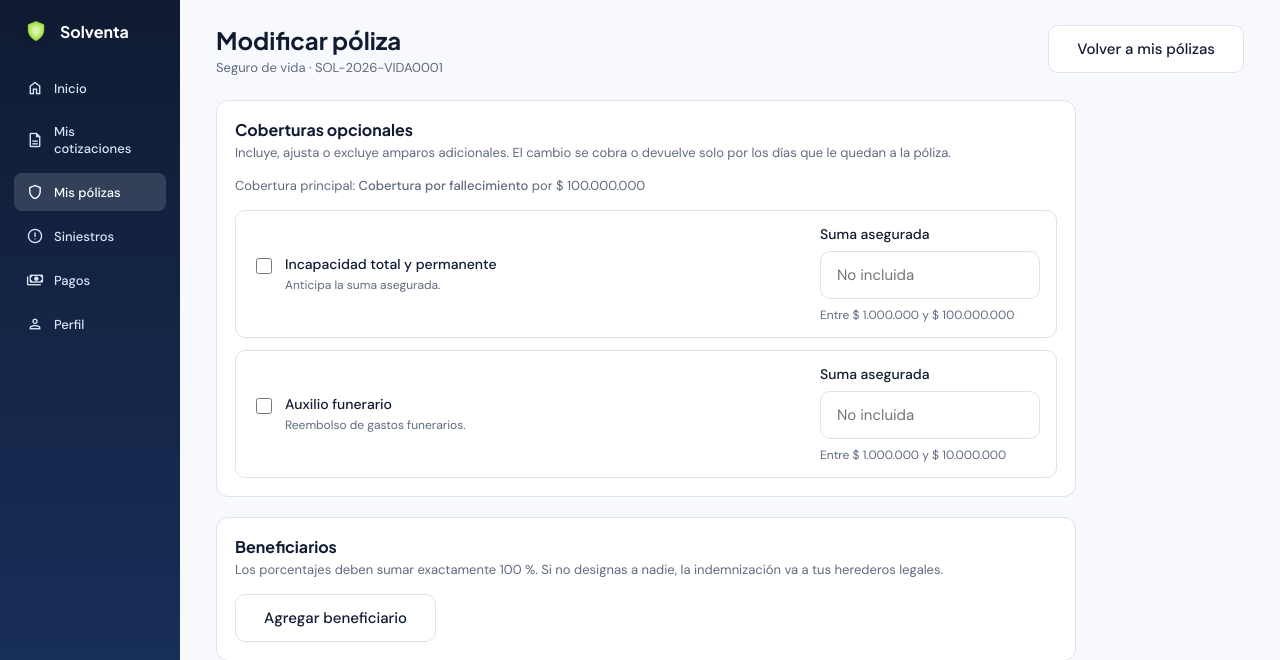
Test: muestra la suma con separador de miles y exige escribirla al incluir la cobertura
The image size is (1280, 660).
Click the checkbox labelled "Auxilio funerario Reembolso de gastos funerarios." at (264, 406), box [256,398,272,414]
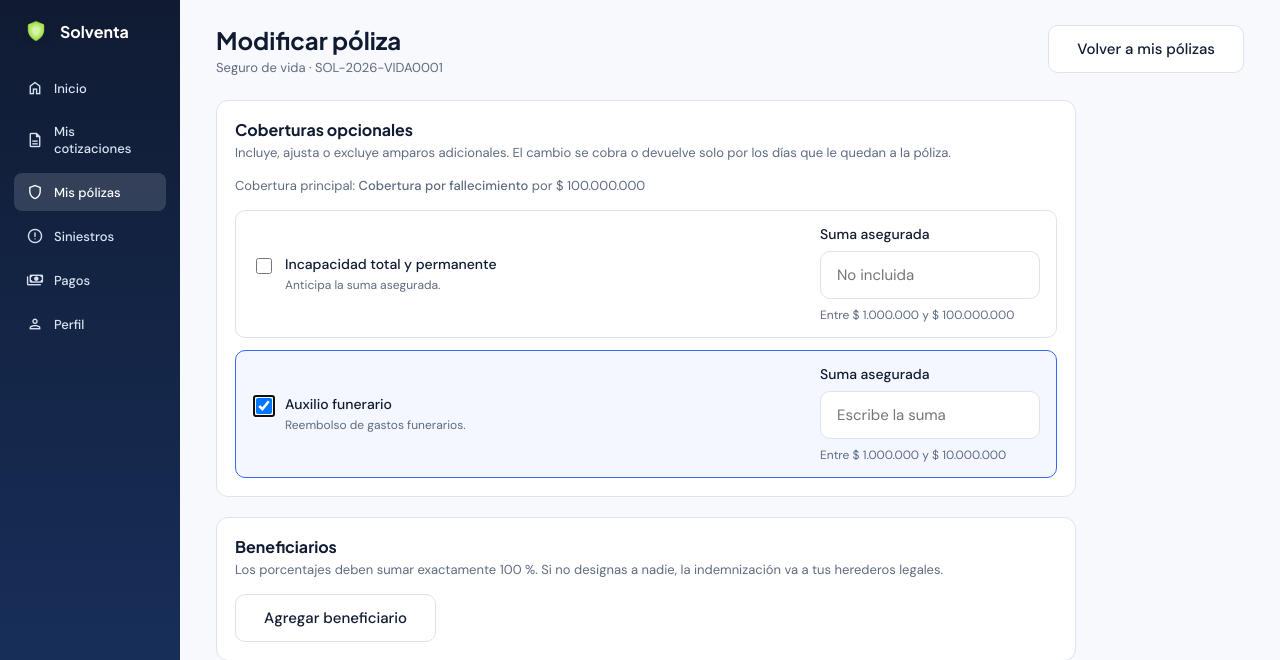
Expected: the field named "Suma asegurada de Auxilio funerario" is enabled
Type "5000000" into the field named "Suma asegurada de Auxilio funerario" at (930, 415), box [820,391,1040,439]
(page scrolled)
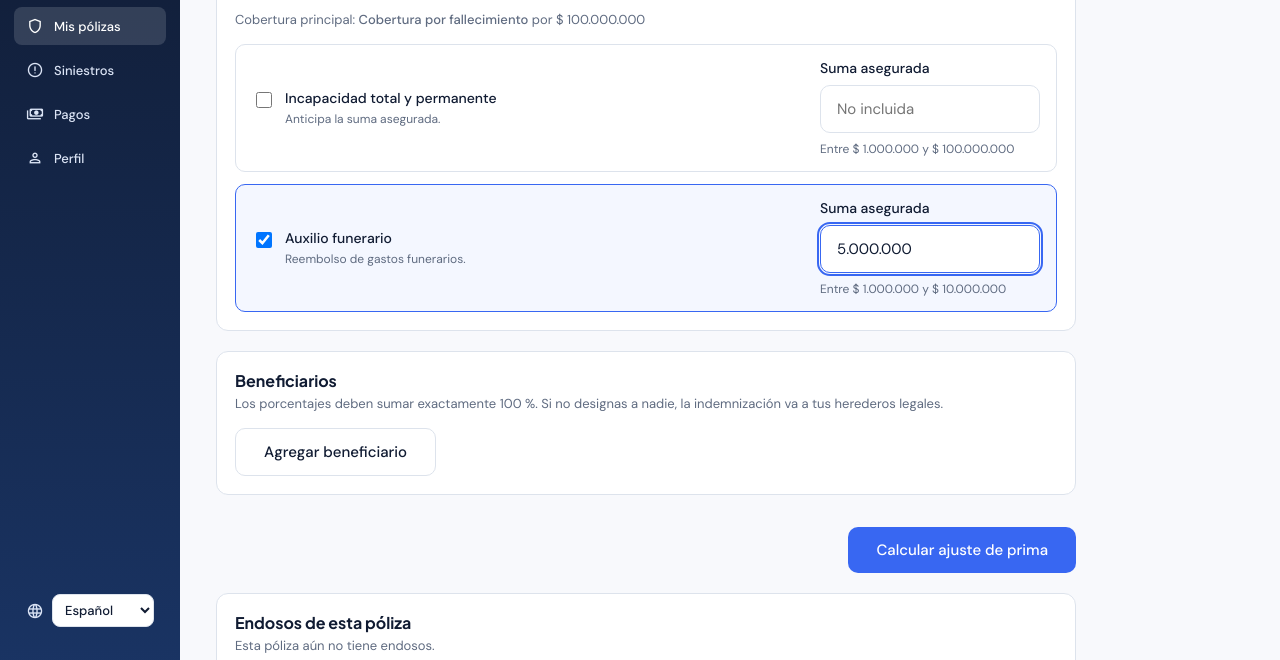
Expected: the field named "Suma asegurada de Auxilio funerario" holds "5.000.000", [820,225,1040,273]
Expected: the button "Calcular ajuste de prima" is enabled, [848,527,1076,573]
